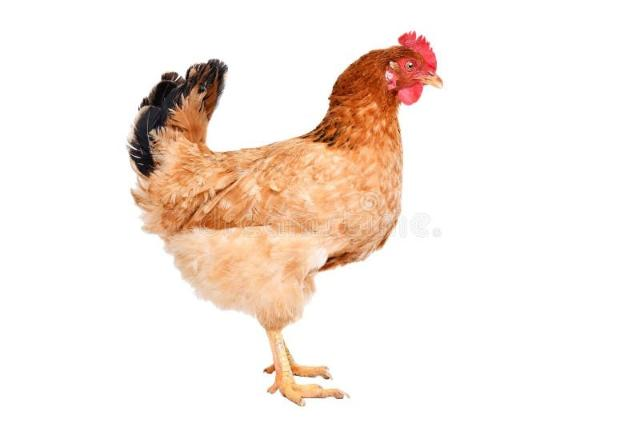Chicken: (126, 30, 445, 405)
